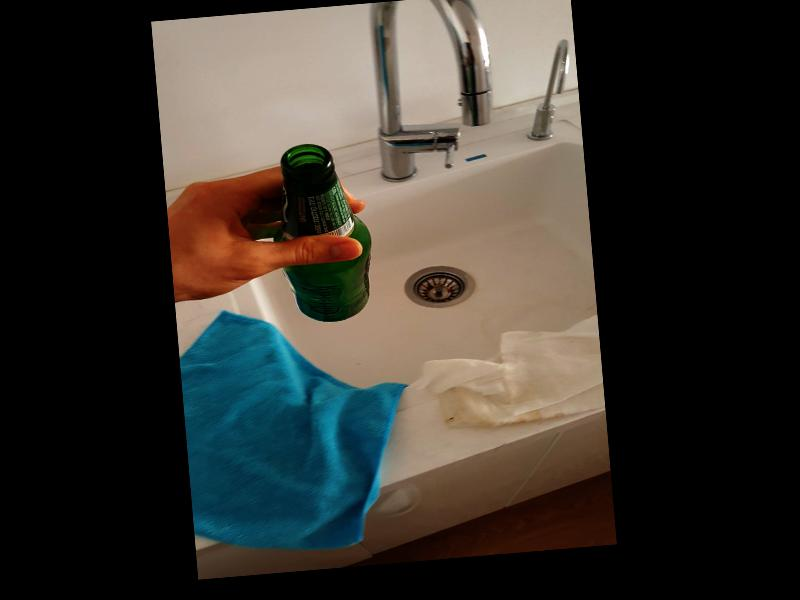Beer: (267, 139, 379, 327)
